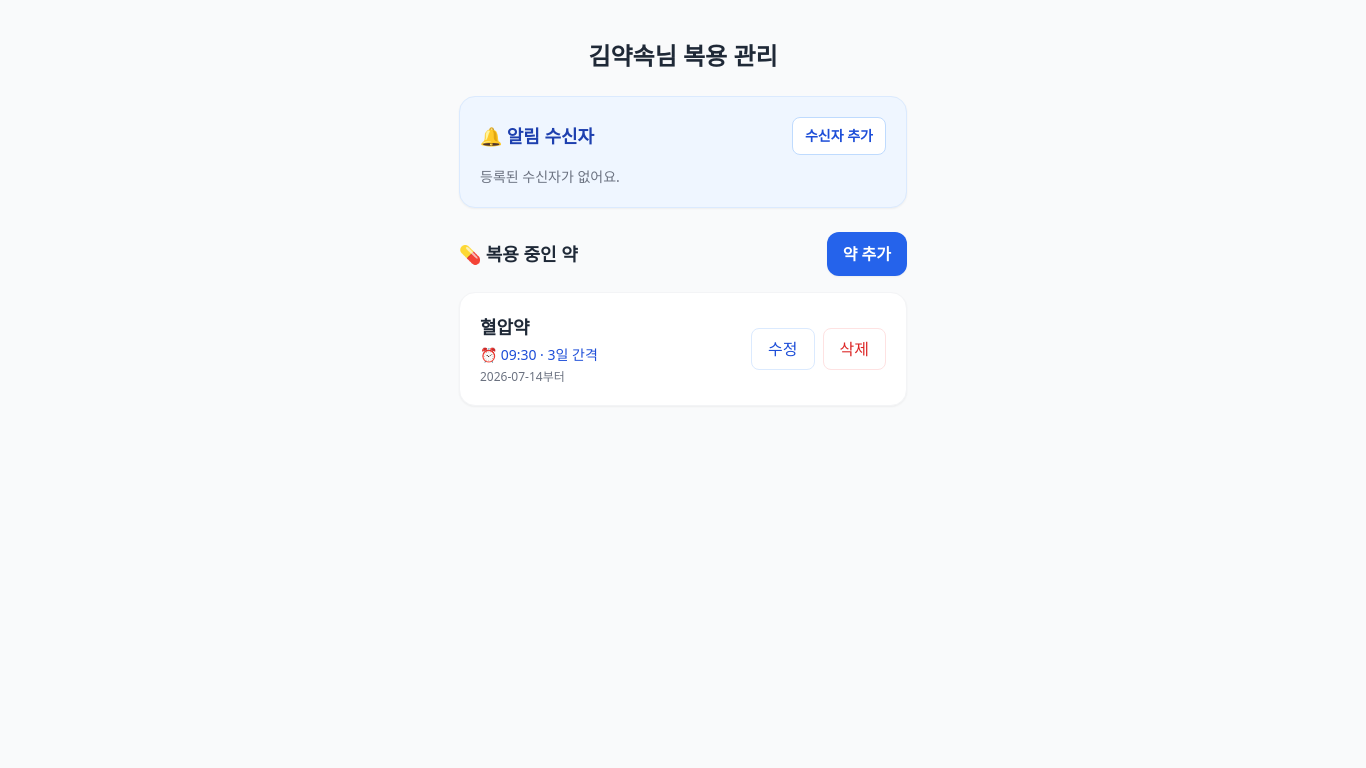
Test case: MedicineManage › 기존 간격 약을 수정하고 목록을 다시 조회한다
Expected: the heading "혈압약" is shown, top-left (480, 315), bottom-right (530, 339)
Step 1. Click the button with aria-label "혈압약 수정" → (783,349), box top-left (751, 328), bottom-right (815, 370)
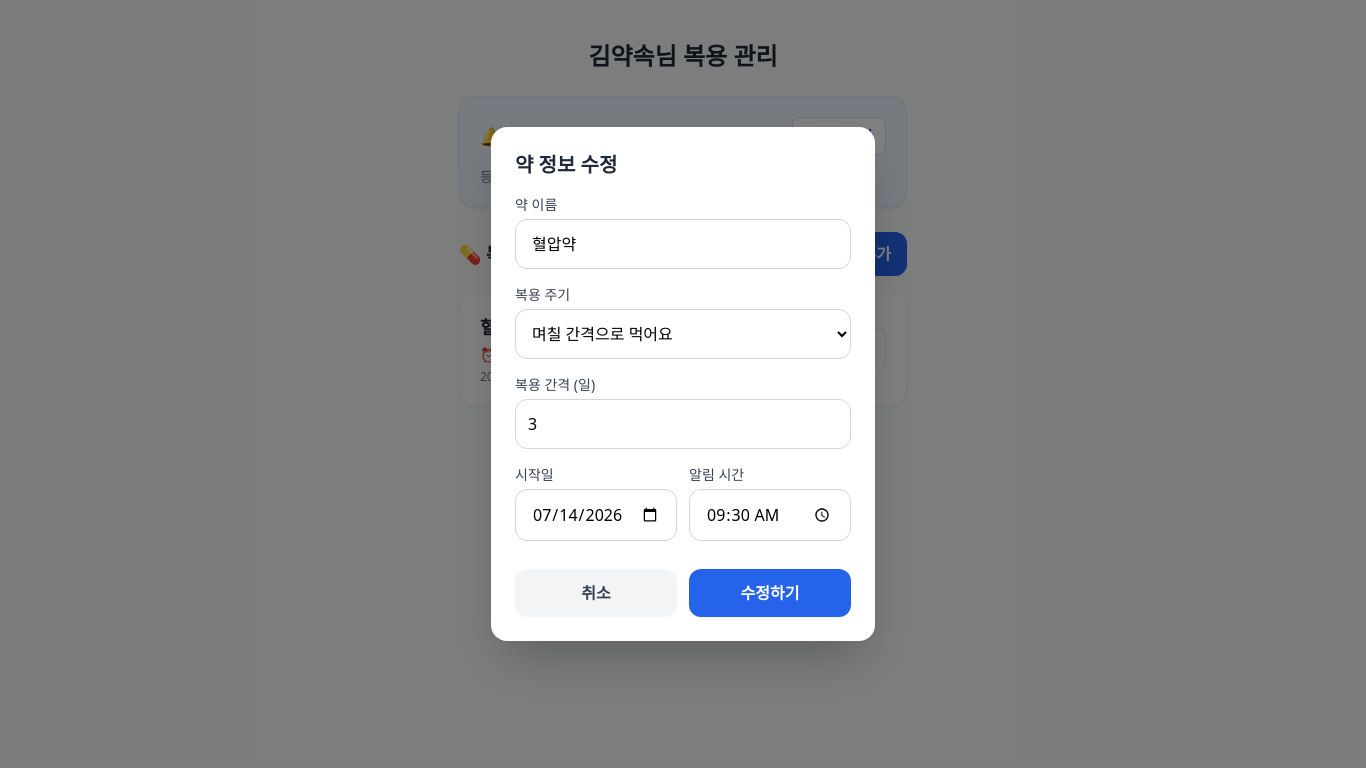
Now the dropdown labelled "복용 주기" shows "며칠 간격으로 먹어요", box top-left (515, 309), bottom-right (851, 359)
Now the number field labelled "복용 간격 (일)" holds "3"
Step 2. Replace the text in the number field labelled "복용 간격 (일)" with "5" → (683,424), box top-left (515, 399), bottom-right (851, 449)
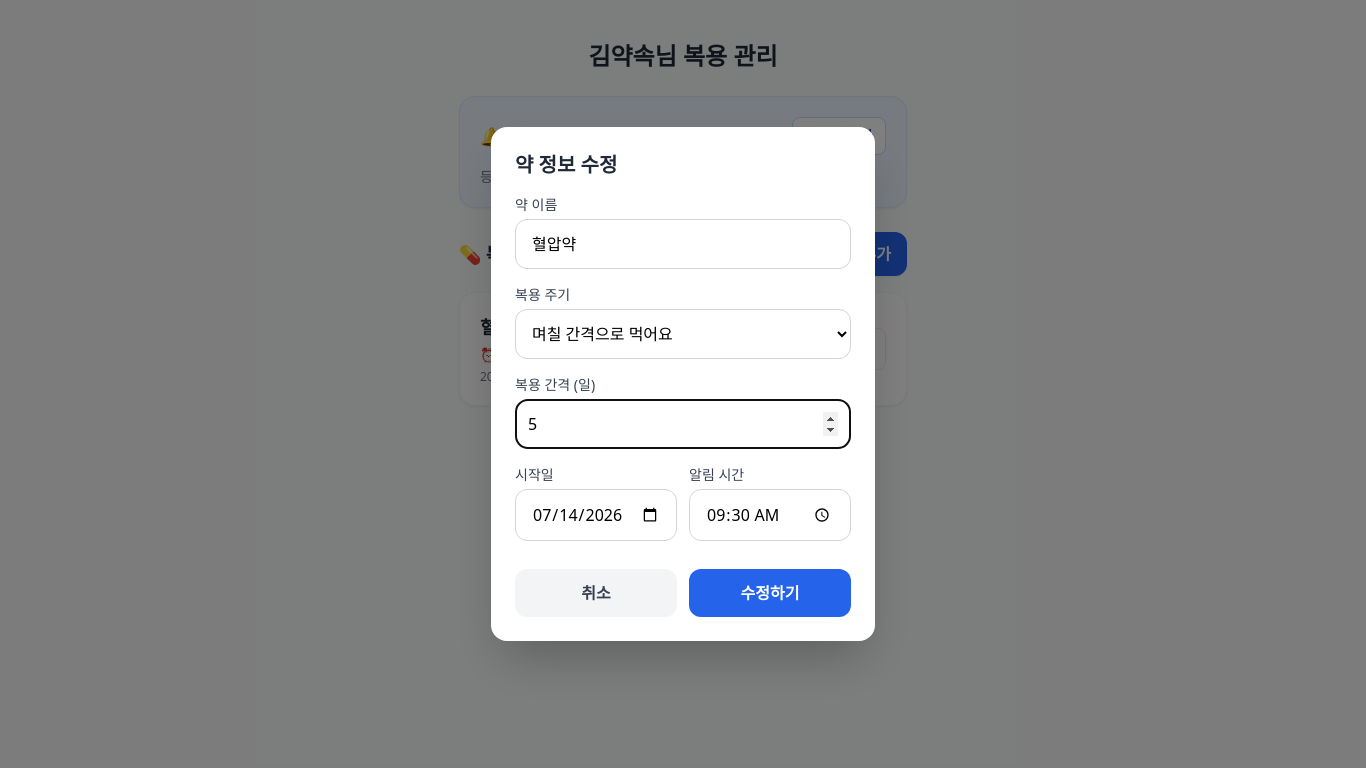
Step 3. Click the button "수정하기" → (770,593), box top-left (689, 569), bottom-right (851, 617)
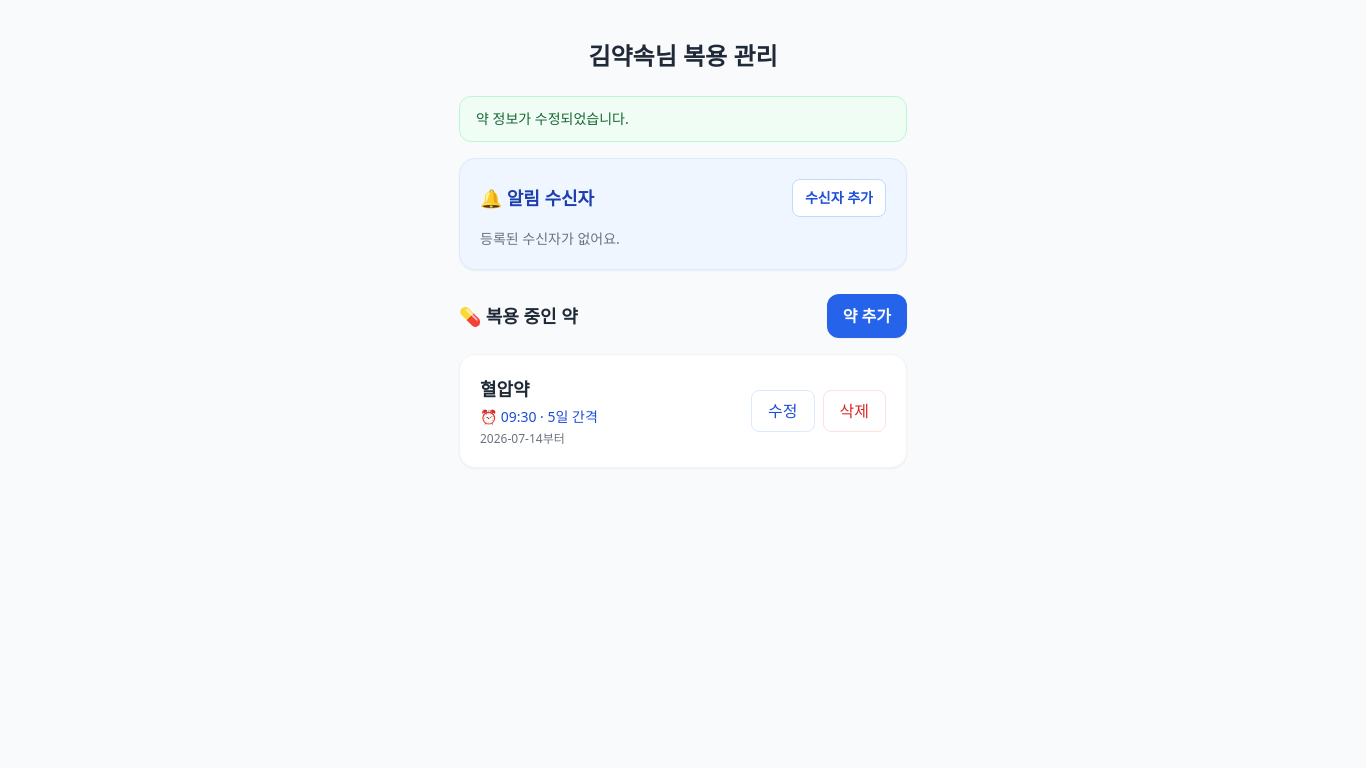
Now the message shows "약 정보가 수정되었습니다", box top-left (476, 109), bottom-right (629, 128)
